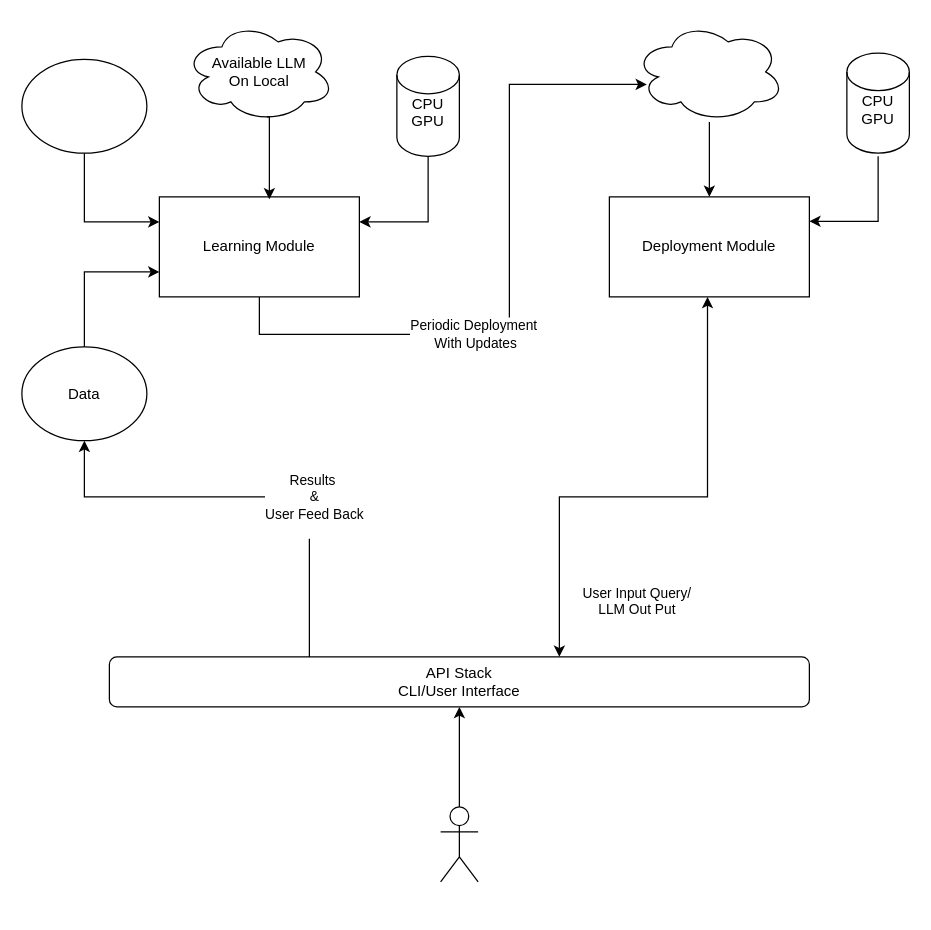
Image size: 931x930. Some labels were removed from this diagram. Each missing label, with the box of its shape:
Fine Tuned LLM: (633, 21, 784, 122)
Perodic Data: (21, 58, 147, 153)
User/Developer: (439, 806, 478, 882)
